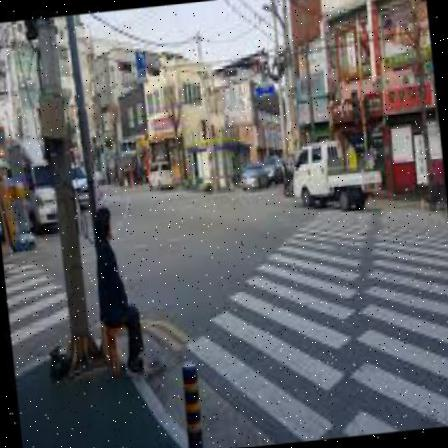silver: (91, 204, 150, 384)
